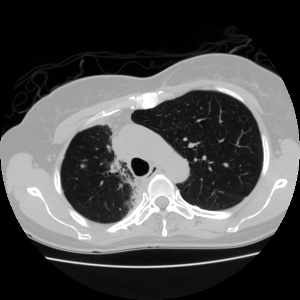nodule: (79, 163, 85, 169)
